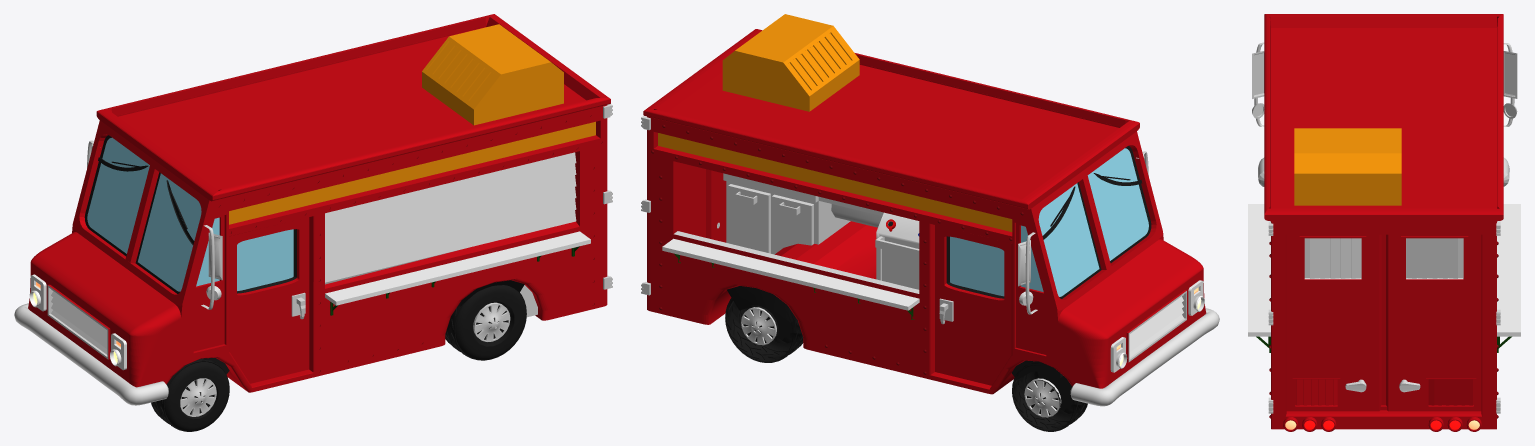
File: food_truck.glb
The picture shows the model from 3 angles, left to right: view 1: azimuth 30°, elevation 25°; view 2: azimuth 150°, elevation 25°; view 3: azimuth 270°, elevation 25°; orthographic projection. The views are drawn at different scales.
Visible parts, largest first — view 1: TRUCK_0, VENT_12, TIRES_10, SERVING COUNTER_1, BUMPER_2, HUBCAPS_11, MIRRORS_9, HEADLIGHTS_5, WIPERS_7; view 2: TRUCK_0, VENT_12, COUNTER_16, TIRES_10, SERVING COUNTER_1, STOVE_15, BUMPER_2, HUBCAPS_11, HEADLIGHTS_5, MIRRORS_9, WIPERS_7, rivets_20; view 3: TRUCK_0, VENT_12, SERVING COUNTER_1, MIRRORS_9, BRAKELIGHTS_19, HINGES_4, HANDLES_6, BUMPER_2.
Part boxes in pixels (x1,y1,x2,y2): TRUCK_0: (28, 14, 610, 392); VENT_12: (422, 24, 563, 125); TIRES_10: (151, 285, 526, 431); SERVING COUNTER_1: (325, 231, 590, 305); BUMPER_2: (14, 303, 168, 405); HUBCAPS_11: (180, 302, 510, 416); MIRRORS_9: (87, 140, 222, 309); HEADLIGHTS_5: (29, 274, 126, 370); WIPERS_7: (98, 157, 194, 245); TRUCK_0: (643, 29, 1206, 394); VENT_12: (722, 14, 859, 111); COUNTER_16: (723, 173, 883, 254); TIRES_10: (725, 293, 1087, 431); SERVING COUNTER_1: (662, 238, 919, 310); STOVE_15: (875, 212, 919, 289); BUMPER_2: (1070, 308, 1219, 406); HUBCAPS_11: (741, 307, 1061, 417); HEADLIGHTS_5: (1110, 280, 1204, 372); MIRRORS_9: (1018, 151, 1148, 314); WIPERS_7: (1042, 173, 1142, 239); rivets_20: (651, 125, 1023, 374); TRUCK_0: (1264, 14, 1503, 429); VENT_12: (1294, 128, 1401, 205); SERVING COUNTER_1: (1248, 204, 1520, 336); MIRRORS_9: (1252, 42, 1517, 126); BRAKELIGHTS_19: (1283, 417, 1481, 431); HINGES_4: (1268, 221, 1500, 413); HANDLES_6: (1345, 379, 1420, 392); BUMPER_2: (1258, 157, 1509, 186).
Size of the model in its own units: 3.05 by 1.65 by 1.43.
